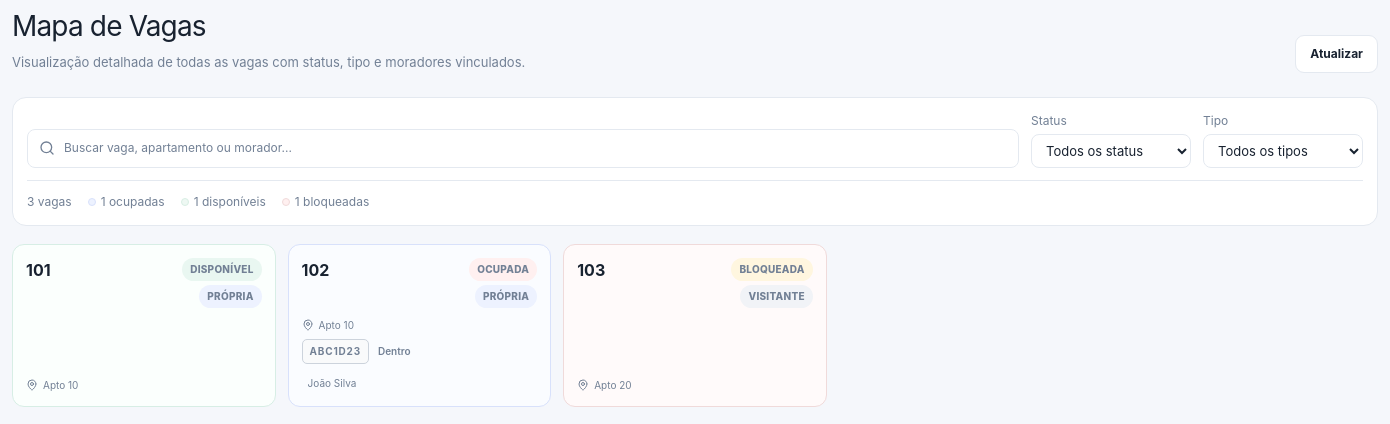
ParkingMapPage › filters by type
Expected: the text "101" is shown, [26,258,51,282]
Select "Visitante" in the dropdown named "Filtrar por tipo" at (1283, 150), box [1203,134,1363,168]
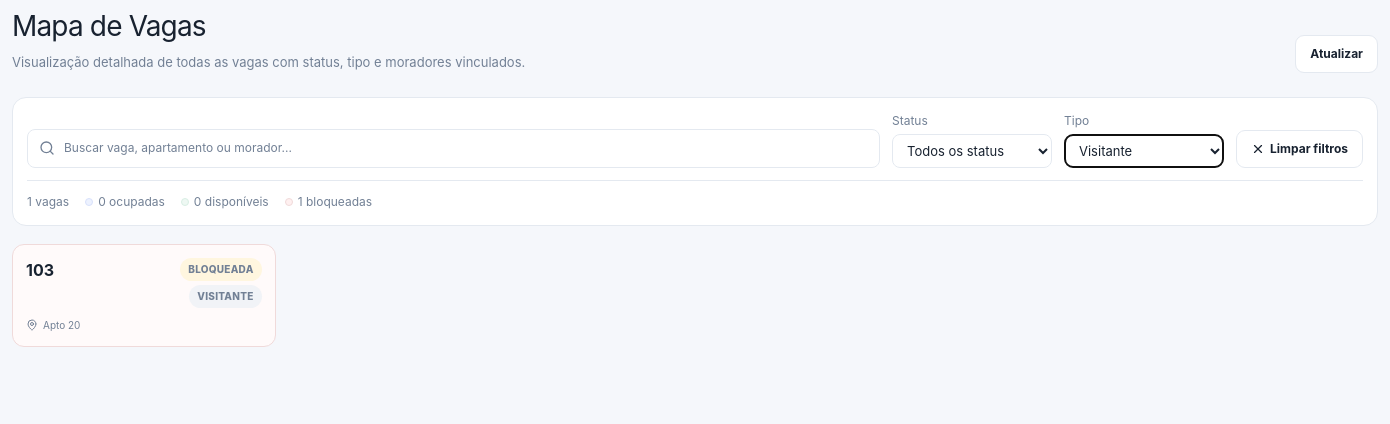
Expected: the text "103" is shown, [26,258,54,282]
Expected: the text "101" is gone
Expected: the text "102" is gone
